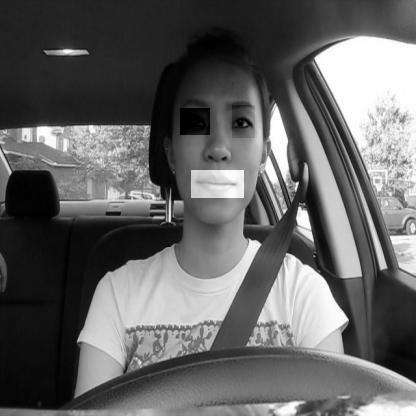seatbelt: (150, 17, 283, 348)
